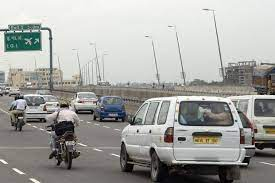bike: (44, 102, 81, 171), (11, 96, 24, 131)
car: (120, 97, 245, 183), (92, 96, 126, 124)
